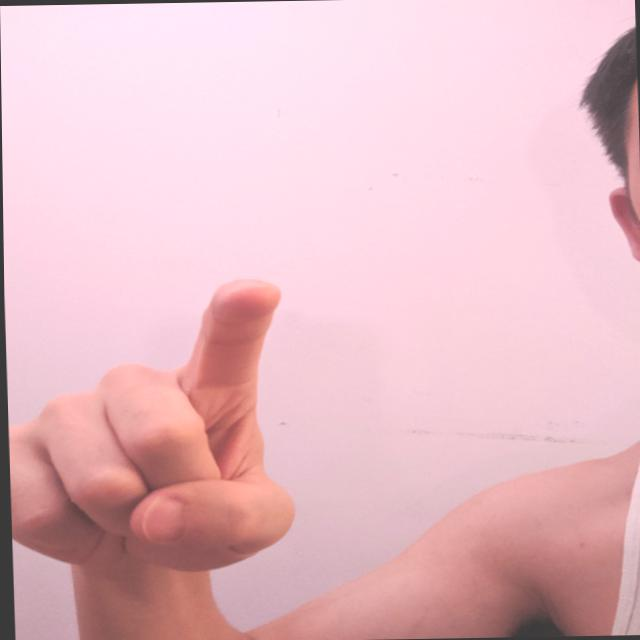Z: (3, 272, 305, 583)
